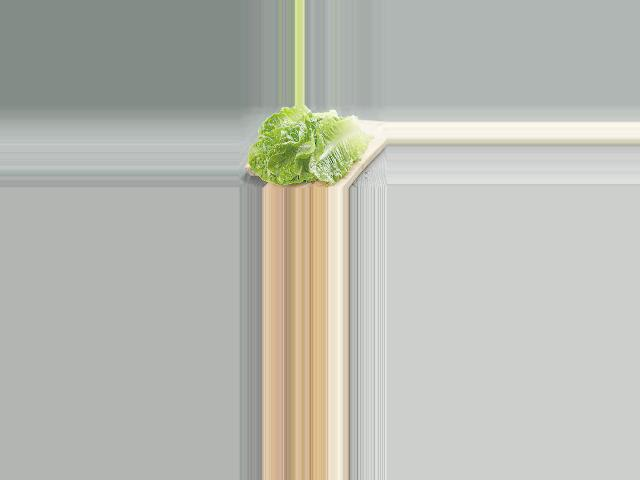lettuce: (244, 106, 368, 188)
